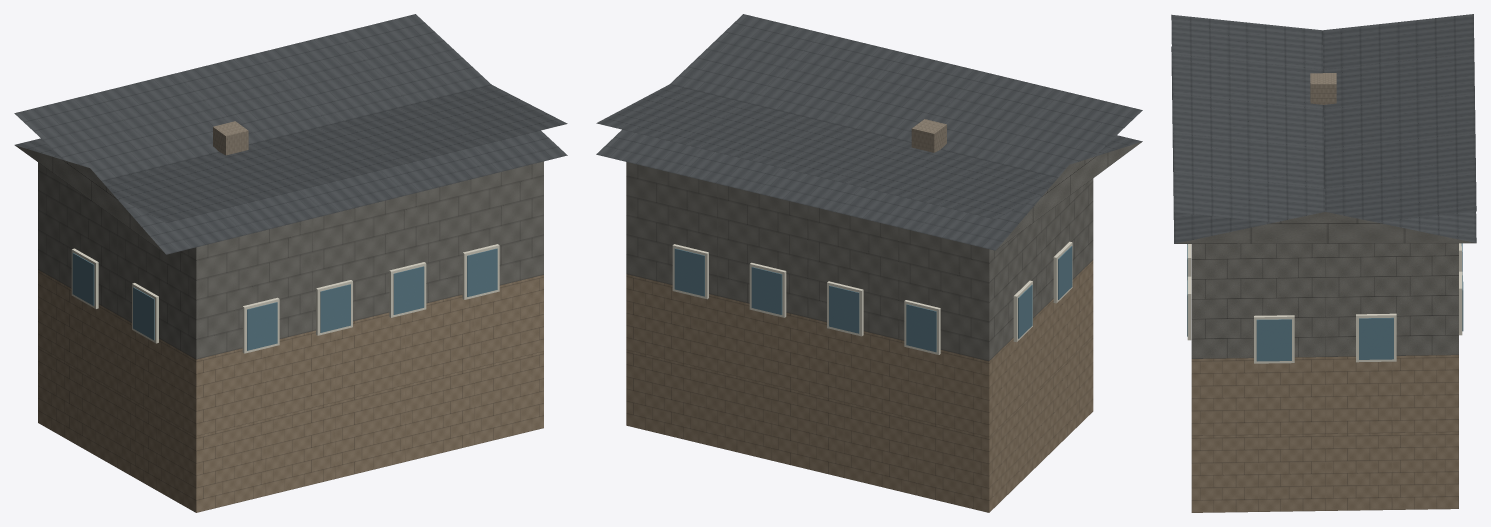
File: core_0132.gltf
3 views of the same model, side by side, from view 1: azimuth 30°, elevation 25°; view 2: azimuth 150°, elevation 25°; view 3: azimuth 270°, elevation 25° (orthographic).
Visible parts, largest first — view 1: core_0132; view 2: core_0132; view 3: core_0132.
Part boxes in pixels (box(x1,y1,x2,y2)): core_0132: box(14, 14, 567, 512); core_0132: box(596, 14, 1142, 512); core_0132: box(1171, 14, 1476, 512).
Bounding box in the file's own units: 13.38 × 9.85 × 8.7.
6 materials, 6 textured.
